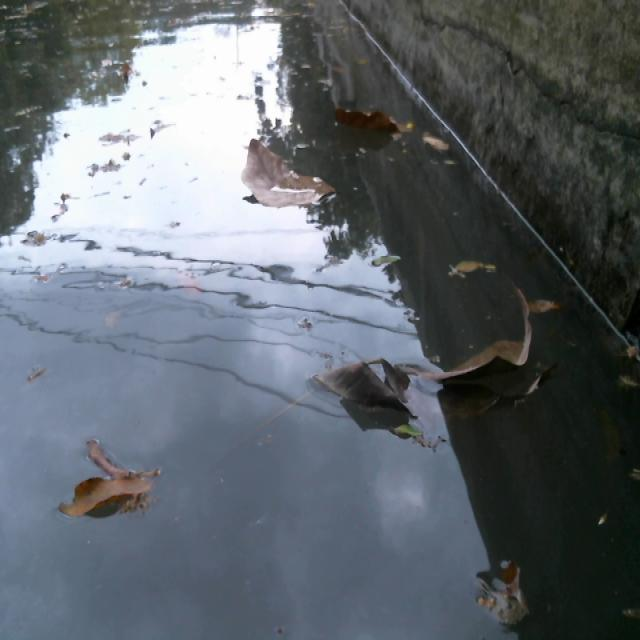Big-leaf: (306, 284, 547, 418), (233, 132, 345, 215), (325, 99, 416, 145)
Small-leaf: (52, 434, 180, 529), (462, 557, 537, 635), (447, 246, 504, 285), (365, 243, 405, 271), (521, 291, 561, 319)
